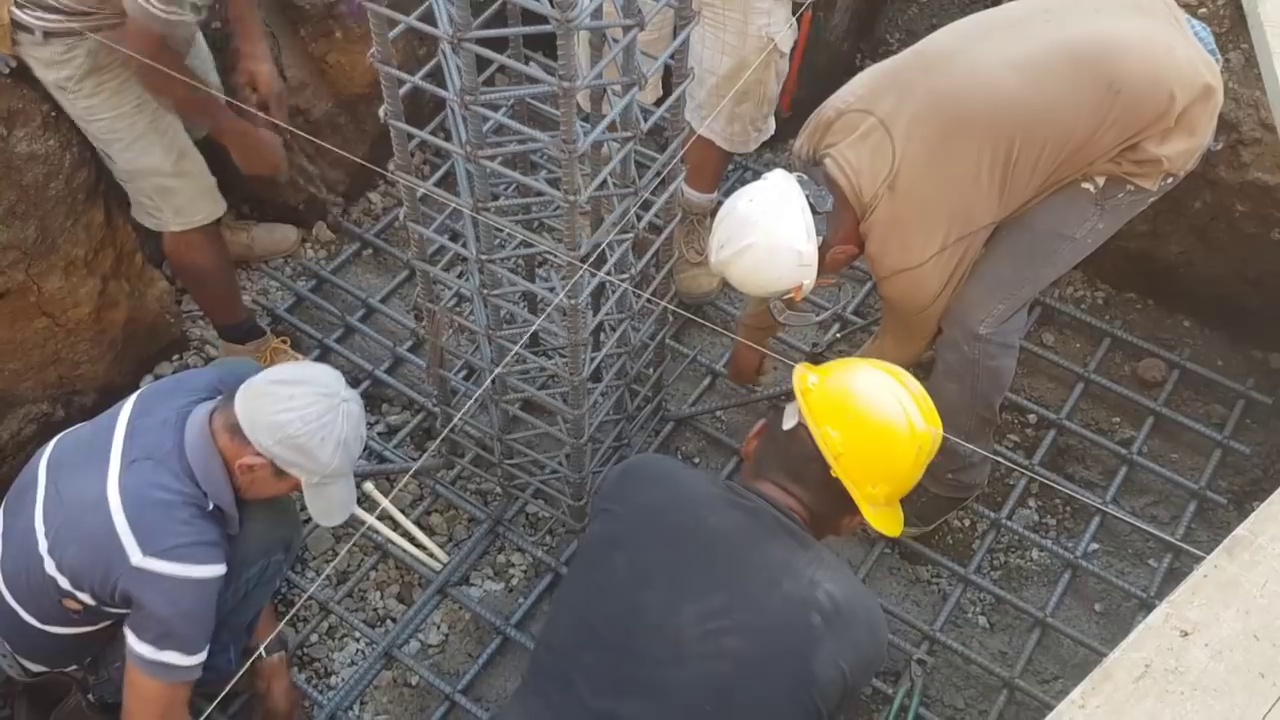helmet: (782, 354, 946, 537), (713, 173, 826, 304)
helmet-off: (216, 361, 361, 530)
helmet-on: (726, 345, 944, 545), (712, 150, 874, 308)
person: (709, 2, 1238, 539), (524, 345, 948, 719), (5, 343, 387, 709), (19, 0, 306, 354), (545, 2, 816, 297)
